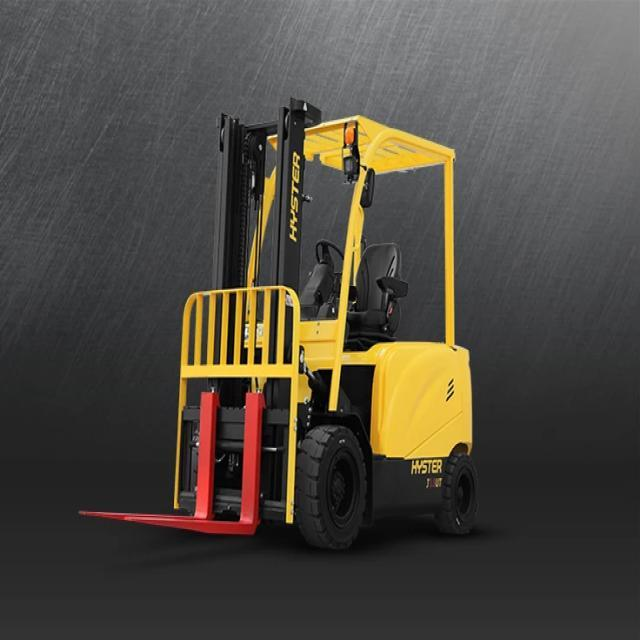forklift: (151, 80, 492, 583)
